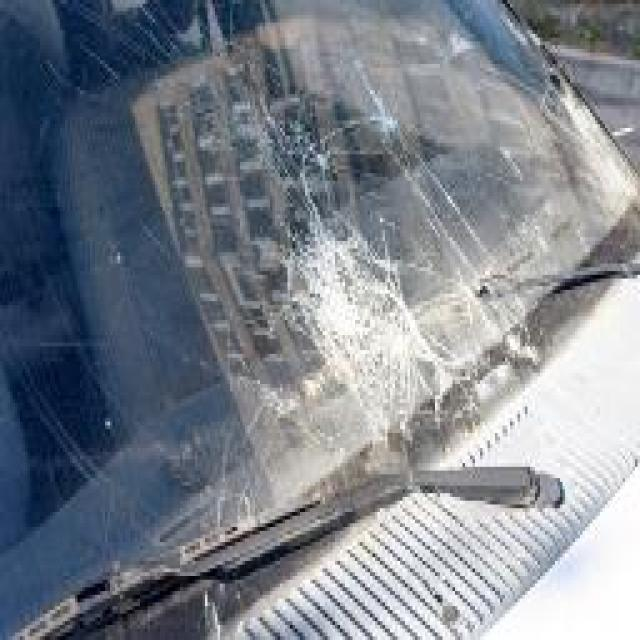Windshield: (0, 4, 640, 542)
